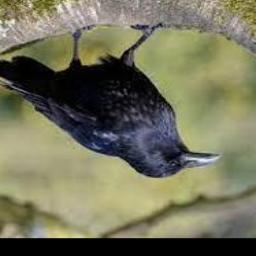Crow: (0, 24, 222, 178)
